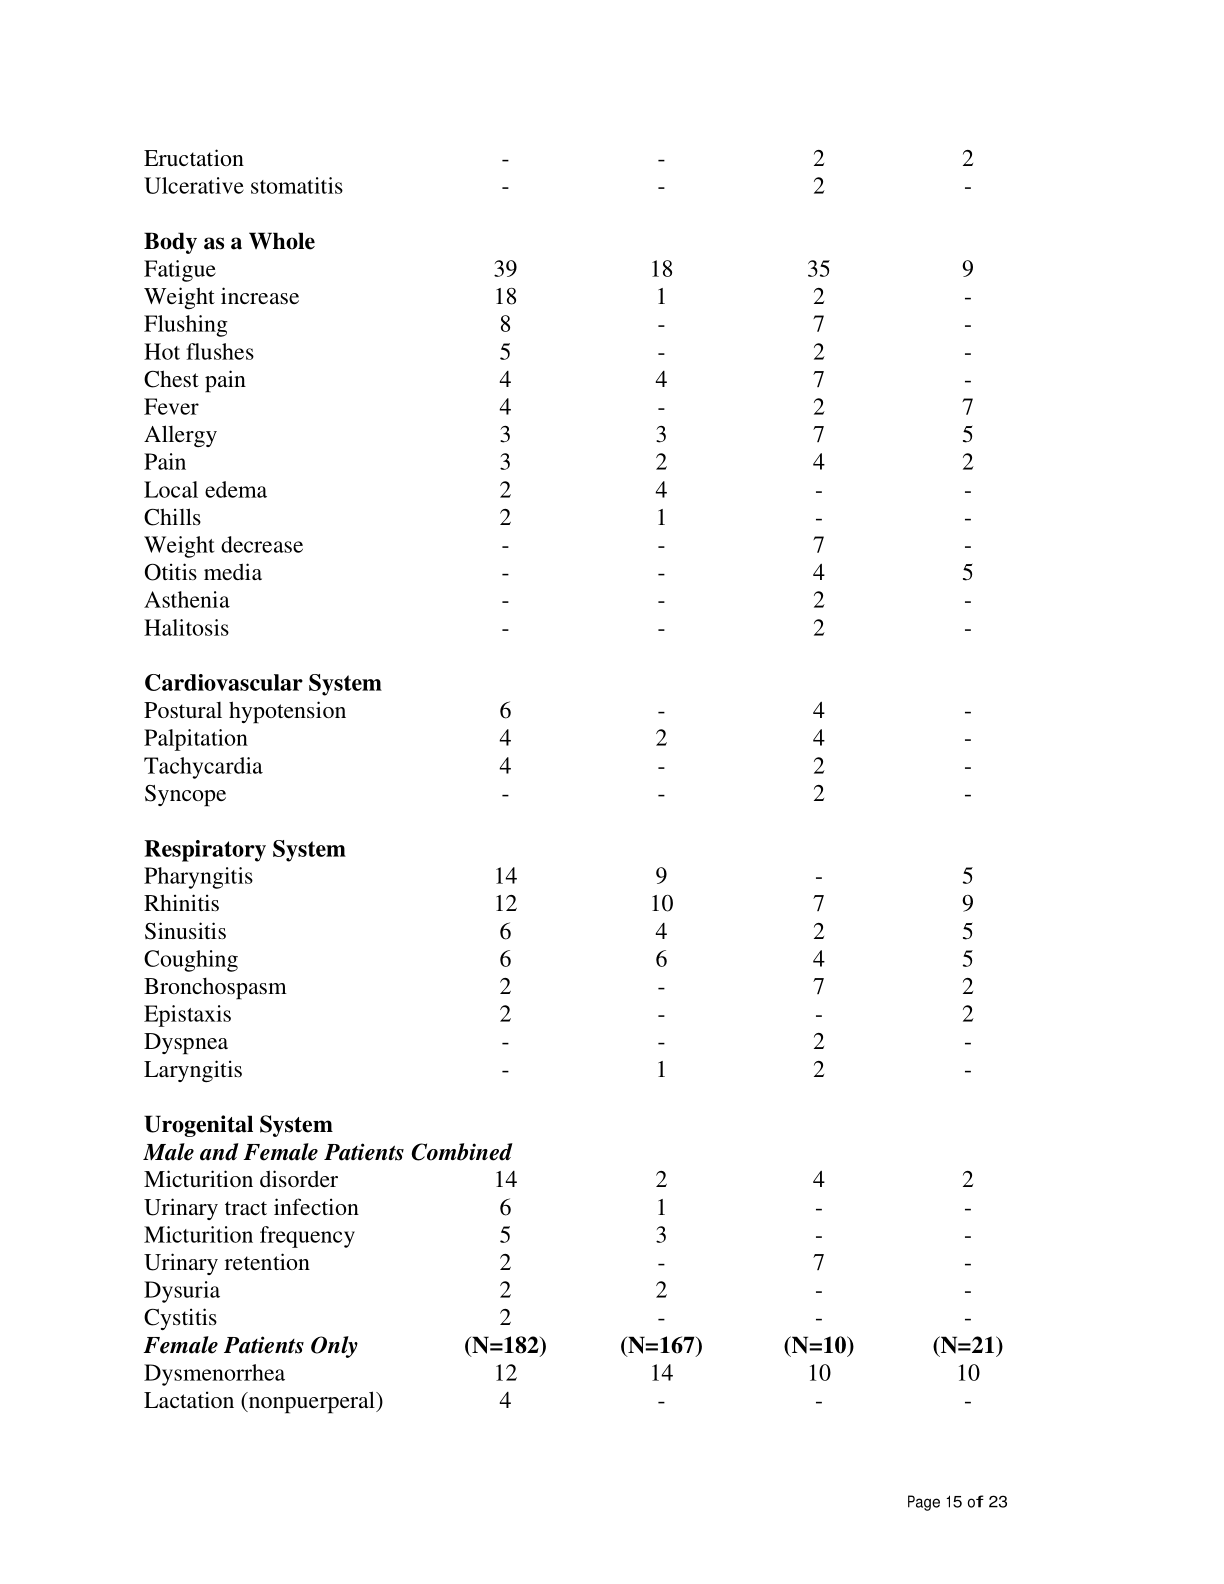nolines: (136, 136, 1013, 1418)
